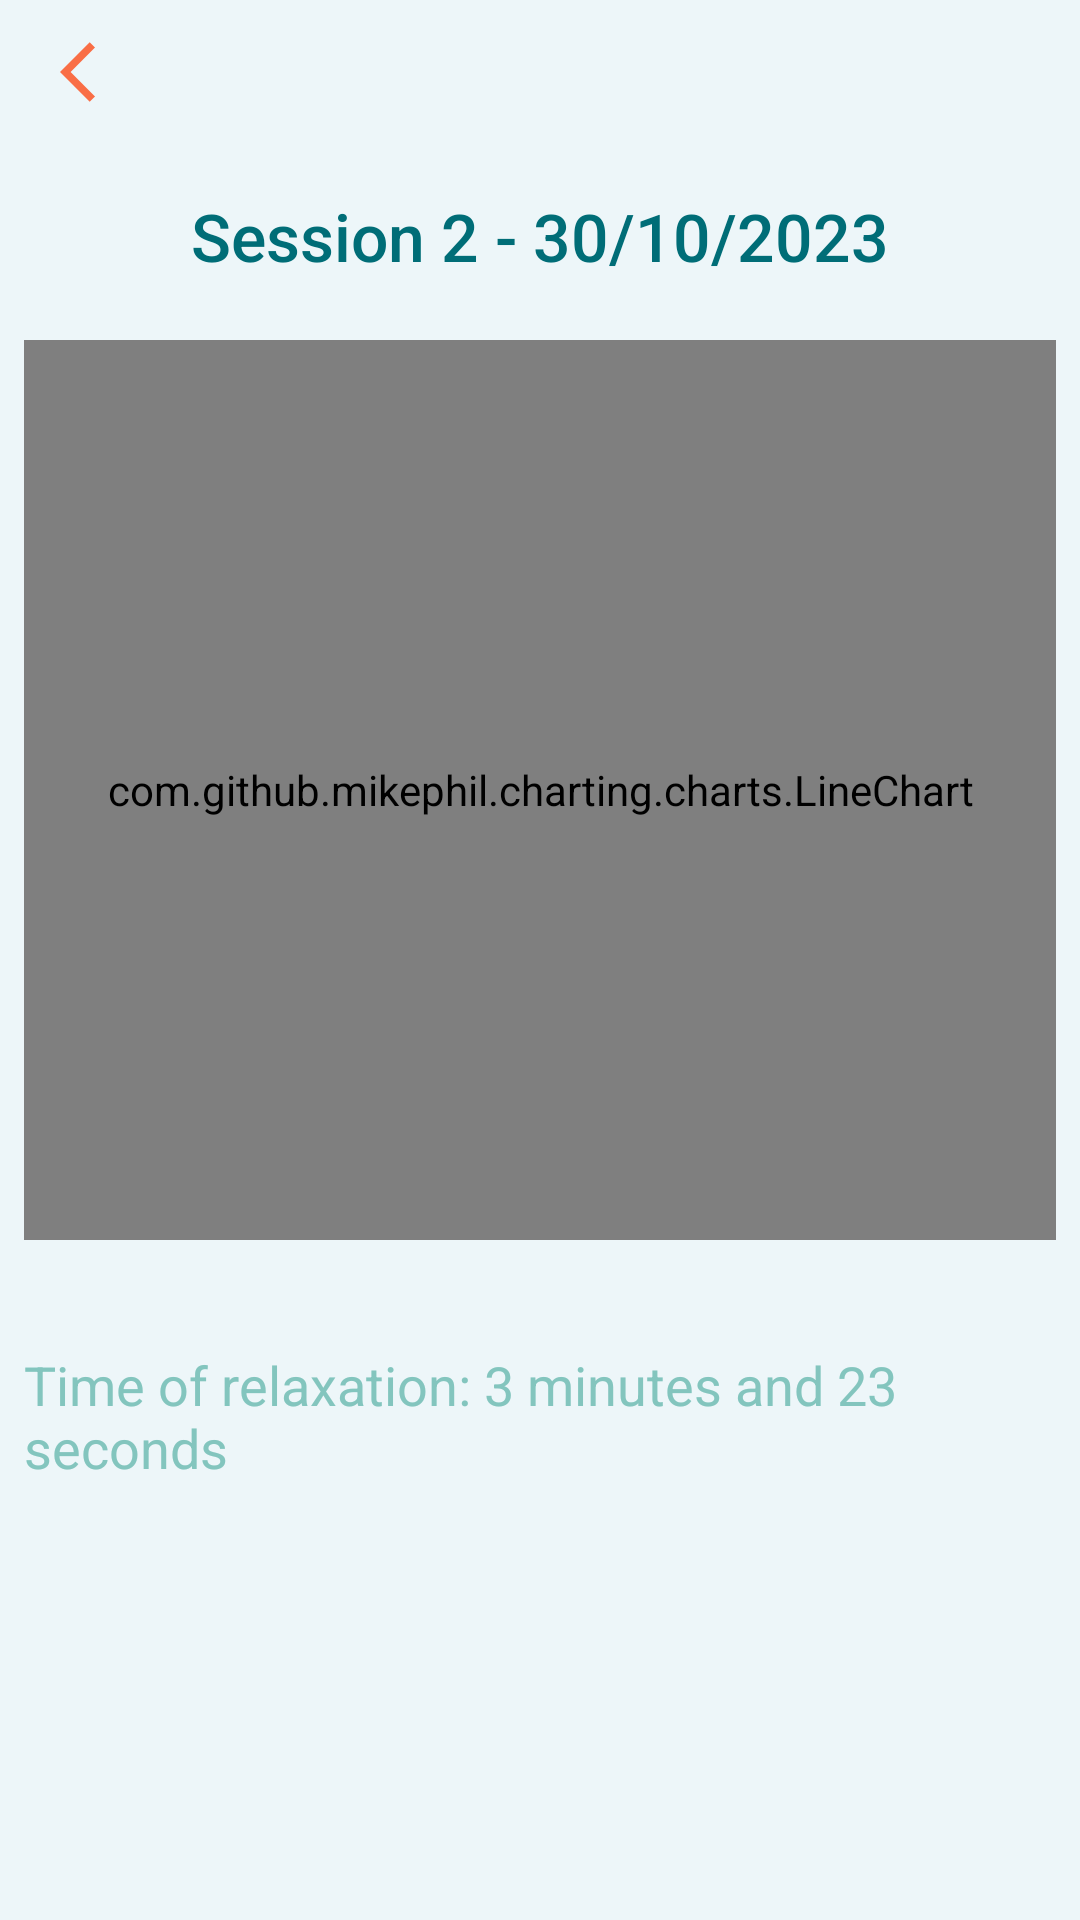

Locate icon controls on the screen. Image size 1080x1920, boxes as (x1, y1, x2, y2).
Back button in the end of session layout: (60, 42, 95, 102)
